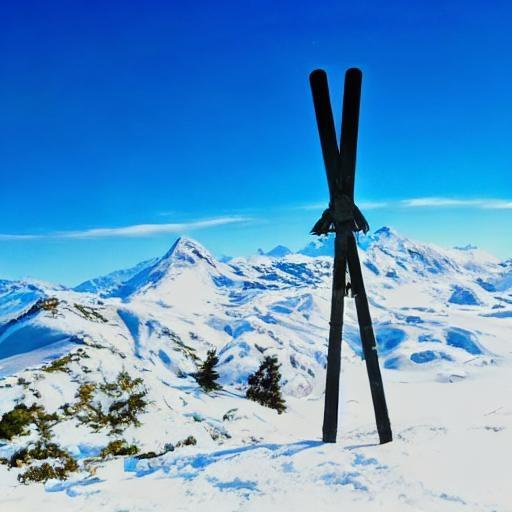Skis: (310, 66, 392, 446)
